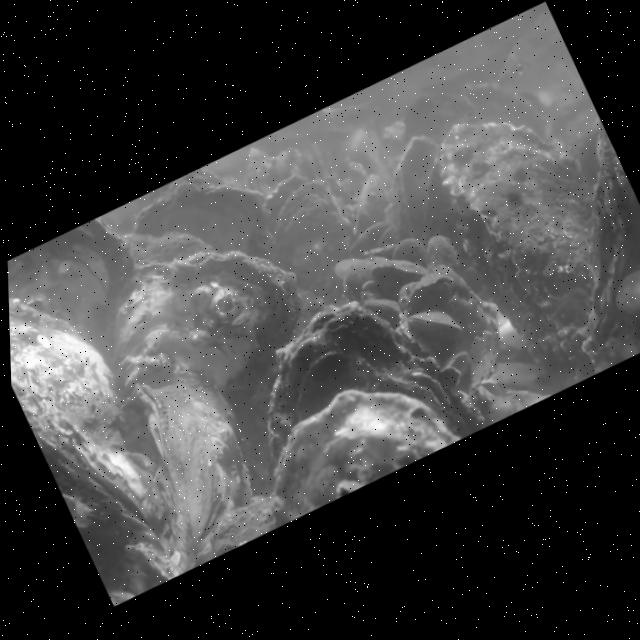Oyster-Closed: (433, 115, 590, 364), (9, 299, 159, 526), (111, 239, 304, 387), (263, 304, 445, 457), (268, 388, 460, 518), (133, 373, 257, 563), (584, 129, 633, 361), (127, 180, 263, 246), (380, 131, 436, 239), (368, 257, 432, 295), (404, 269, 456, 314), (407, 308, 462, 336)
Oyster-Indeterminate: (8, 218, 138, 344)
Oyster-Open: (258, 169, 344, 236)
